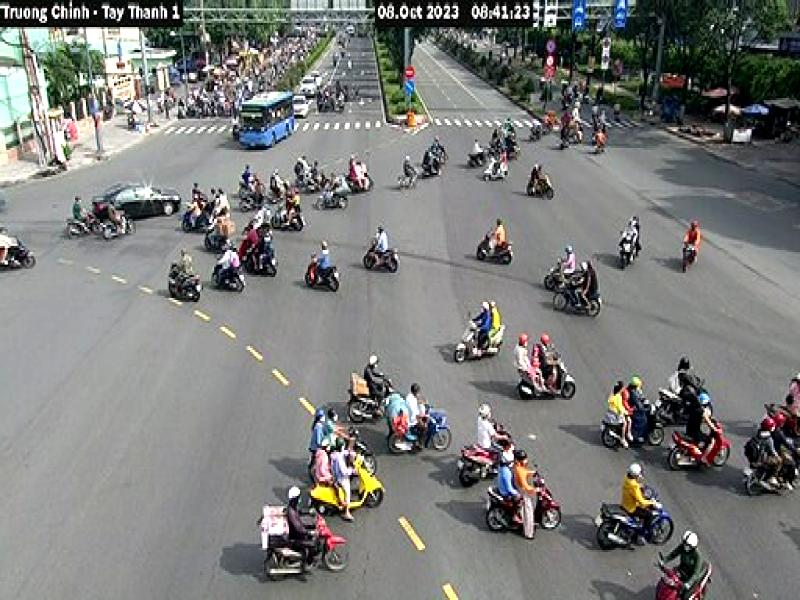bus: (233, 89, 300, 165)
motorcycle: (251, 506, 354, 588), (466, 468, 568, 542), (301, 443, 403, 513), (582, 479, 677, 554)
